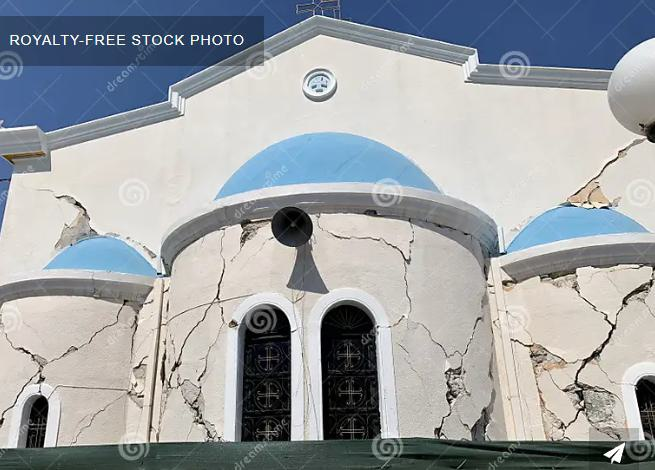crack: (417, 329, 500, 440), (315, 210, 425, 290), (565, 255, 655, 350), (156, 330, 215, 444), (544, 362, 618, 434), (2, 320, 67, 397)
